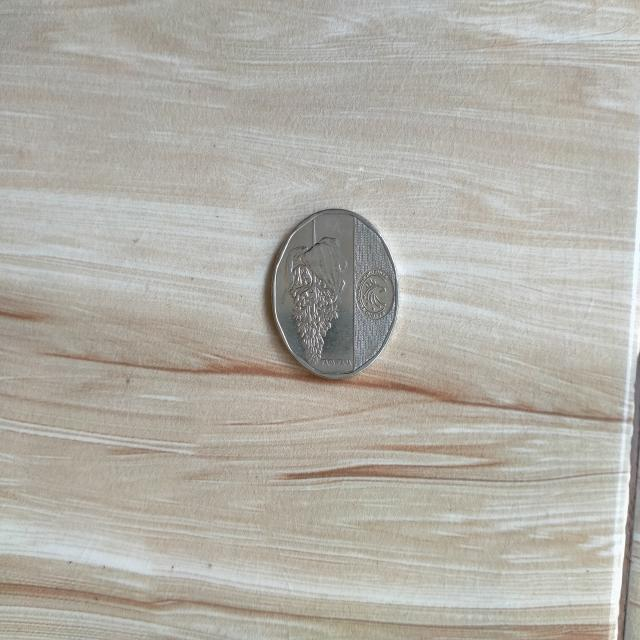10_New_Back: (282, 214, 346, 374)
